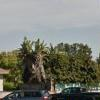Palm tree: (15, 32, 48, 80)
